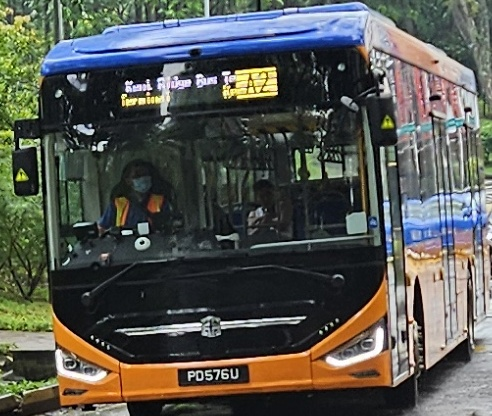bus: (233, 68, 279, 98)
